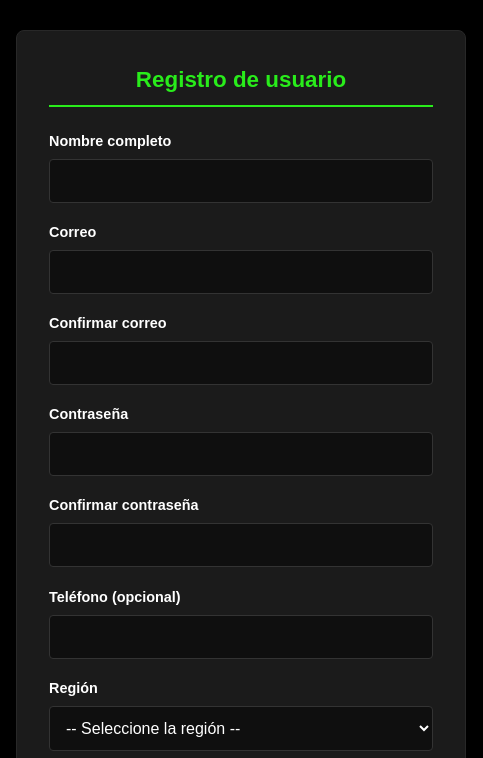
Test: Registro › valida que ambos correos coincidan
The width and height of the screenshot is (483, 758).
Type "ana@gmail.com" into the field labelled "Correo" at (241, 272), box x1=49 y1=250 x2=433 y2=294
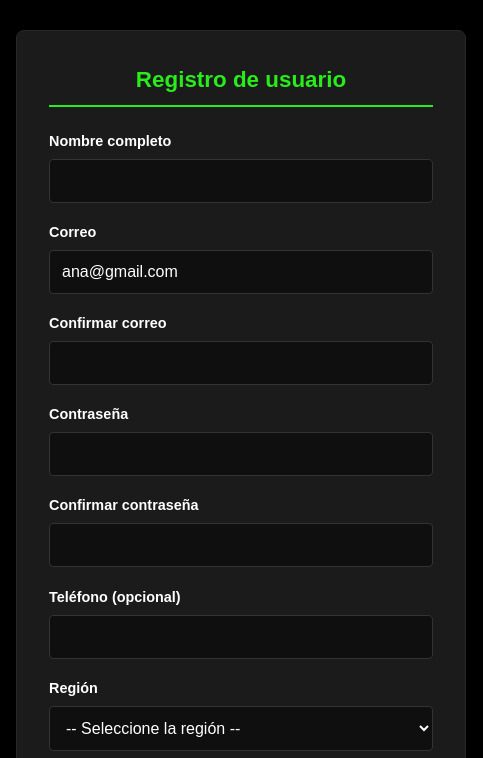
Type "otro@gmail.com" into the field labelled "Confirmar correo" at (241, 363), box x1=49 y1=341 x2=433 y2=385
(page scrolled)
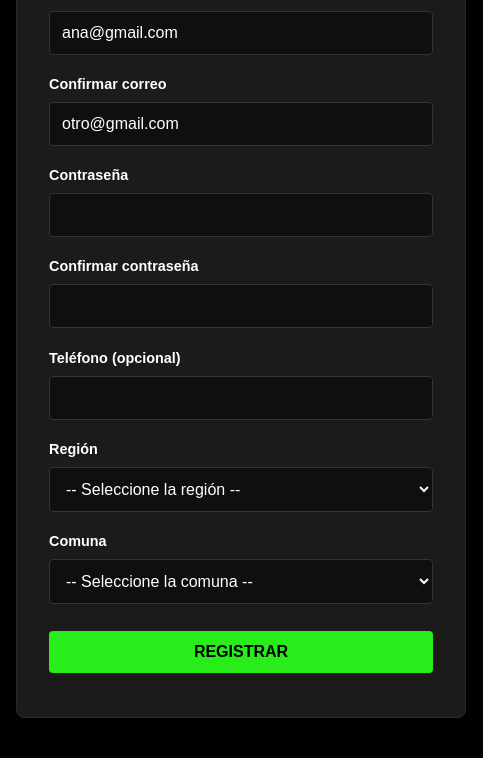
Click the button "Registrar" at (241, 652), box x1=49 y1=631 x2=433 y2=673
(page scrolled)
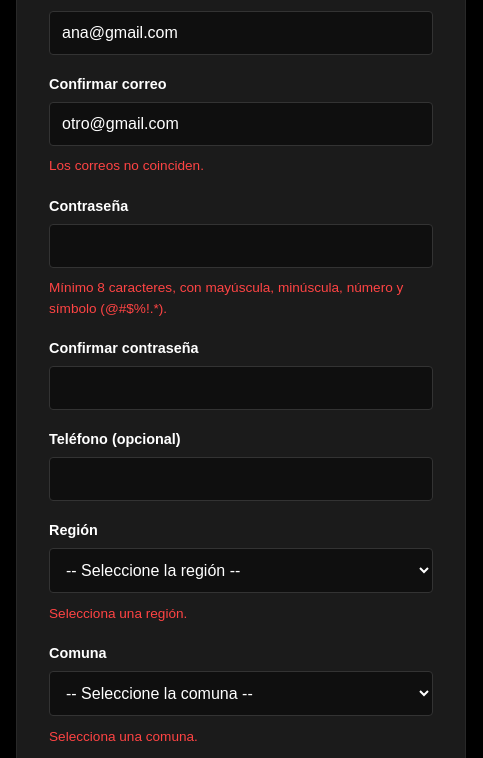
Check: the text "Los correos no coinciden." is shown, box x1=49 y1=158 x2=204 y2=173
